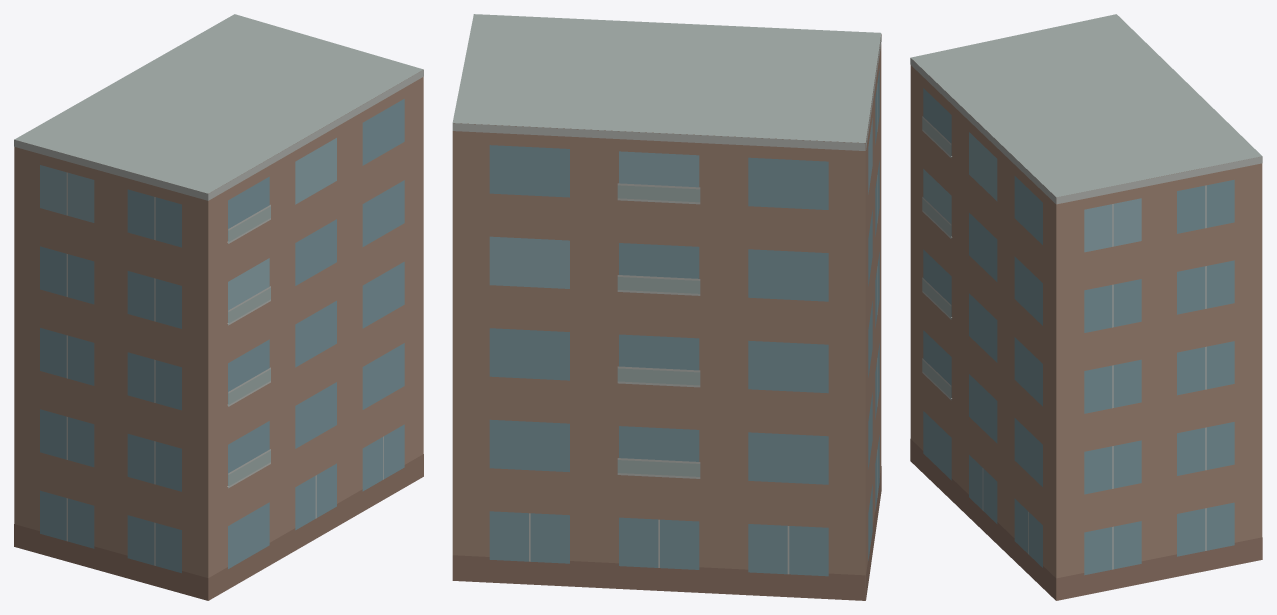
The model's file is survey-upis-32741024.glb.
The picture shows the model from 3 angles, left to right: view 1: azimuth 30°, elevation 25°; view 2: azimuth 150°, elevation 25°; view 3: azimuth 270°, elevation 25°; orthographic projection. The views are drawn at different scales.
Visible parts, largest first — view 1: survey-upis-32741024.tmp; view 2: survey-upis-32741024.tmp; view 3: survey-upis-32741024.tmp.
Part boxes in pixels (x1,y1,x2,y2): survey-upis-32741024.tmp: (14, 14, 423, 600); survey-upis-32741024.tmp: (452, 14, 881, 600); survey-upis-32741024.tmp: (910, 14, 1262, 600).
Bounding box in the file's own units: 13.55 × 13.9 × 11.
